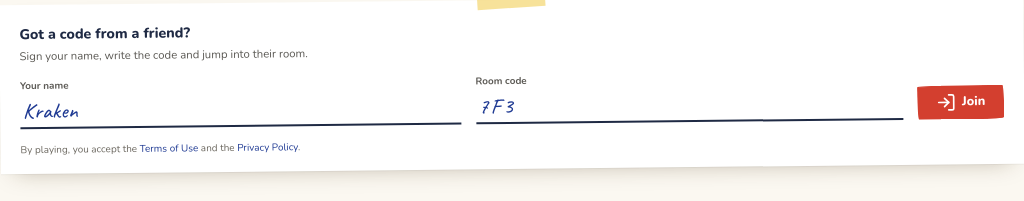
Test: niepełny kod pokoju nie dołącza
Click the button "Join": (961, 102) 917,84 -> 1004,119
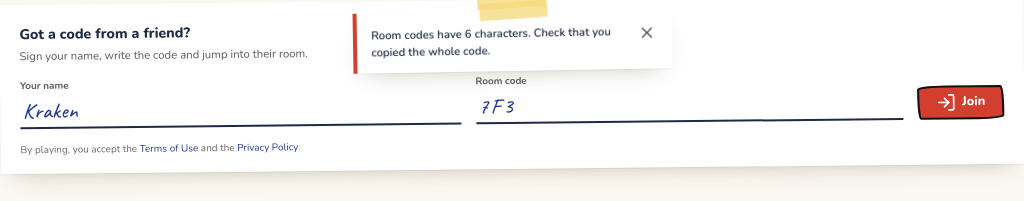
Check: the message shows "6 characters", box 371,25 -> 611,61
